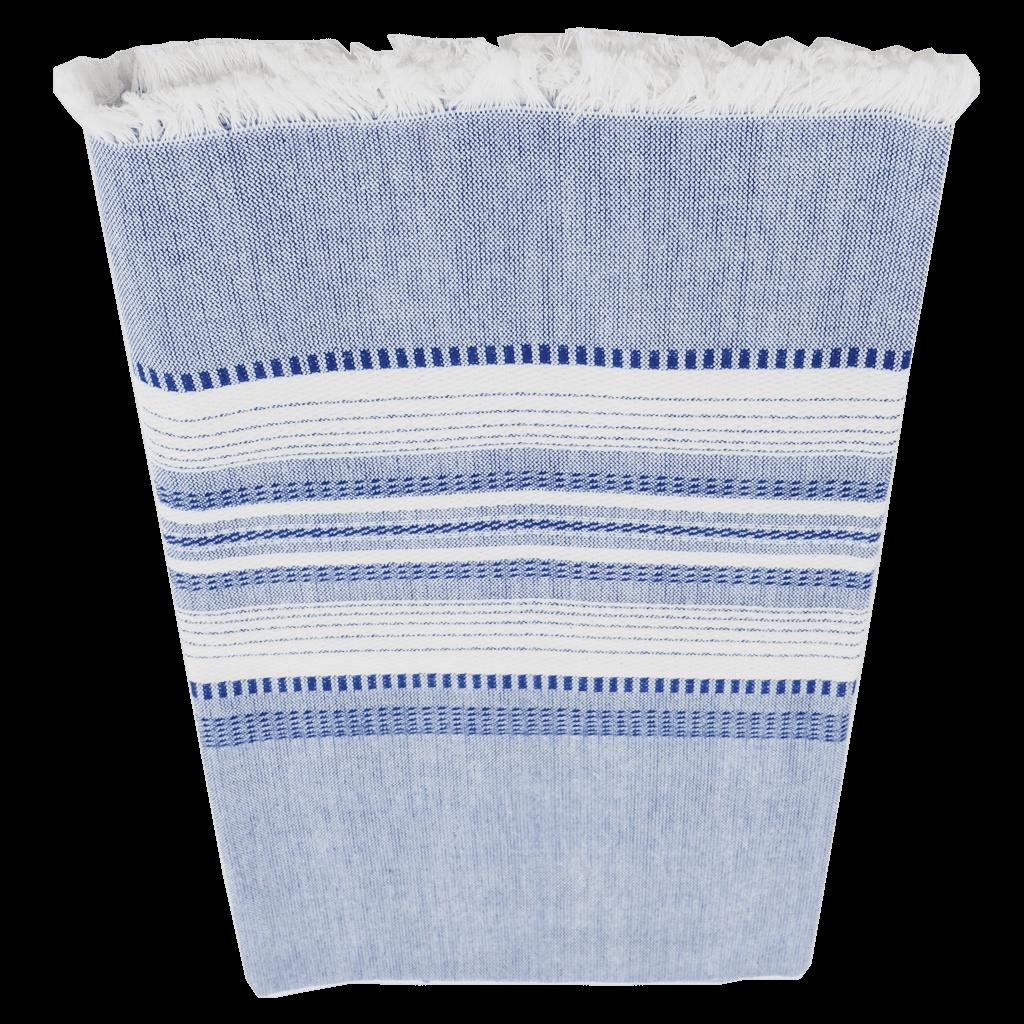Towel: (38, 28, 1002, 1024)
